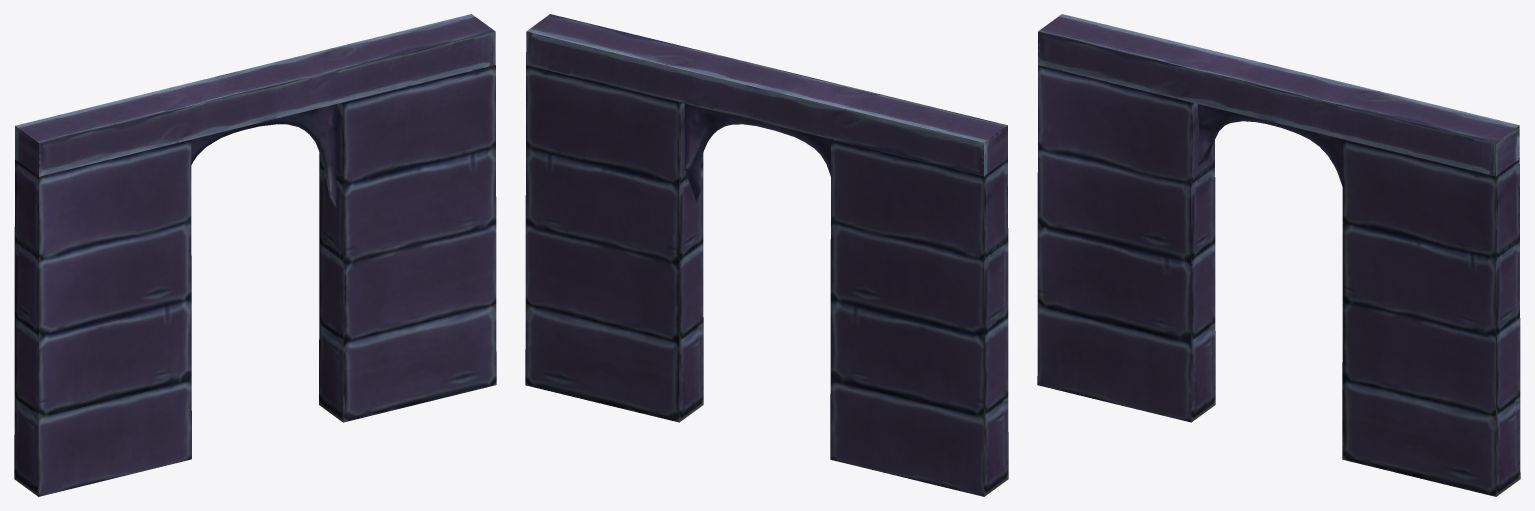
Rendered from ARC0110020.fbx.
3 views of the same model, side by side, from view 1: azimuth 30°, elevation 25°; view 2: azimuth 150°, elevation 25°; view 3: azimuth 330°, elevation 25° (orthographic).
Parts seen in each view (by area): view 1: smARC0110020; view 2: smARC0110020; view 3: smARC0110020.
Part boxes in pixels (<box>): smARC0110020: <box>14,14,496,496</box>; smARC0110020: <box>525,14,1008,496</box>; smARC0110020: <box>1037,14,1520,496</box>.
Size of the model in its own units: 478 by 353 by 44.15.
1 material, 1 textured.
